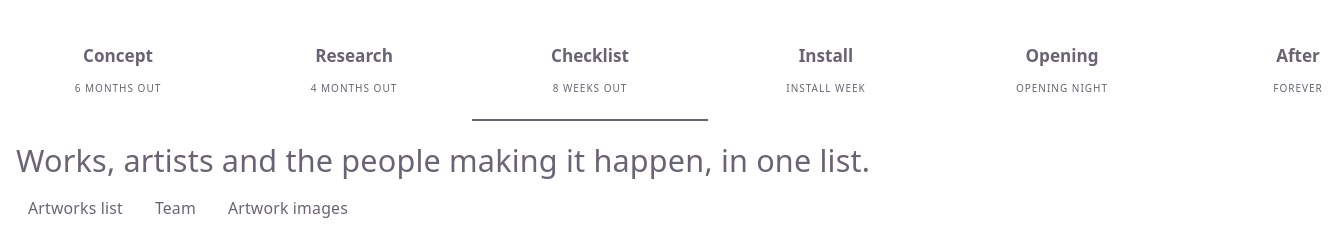
Scenario: audience page demos › timeline: each stage shows what the record keeps
Click the tab "Install Install week" at (826, 69), box [708,17,944,121]
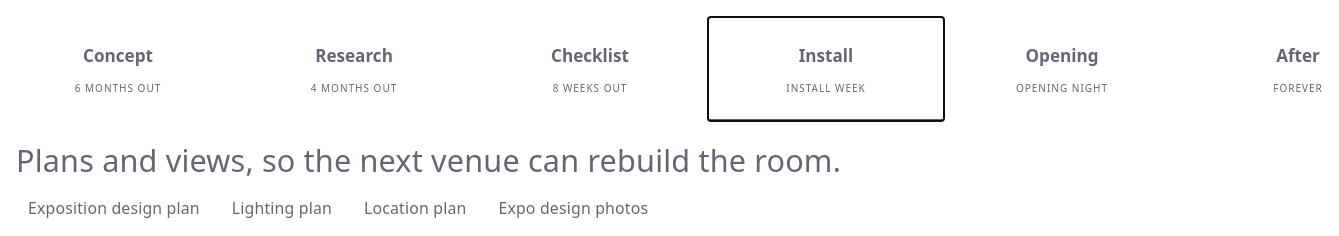
expect the panel shows "Lighting plan": met, box [232,197,332,219]
